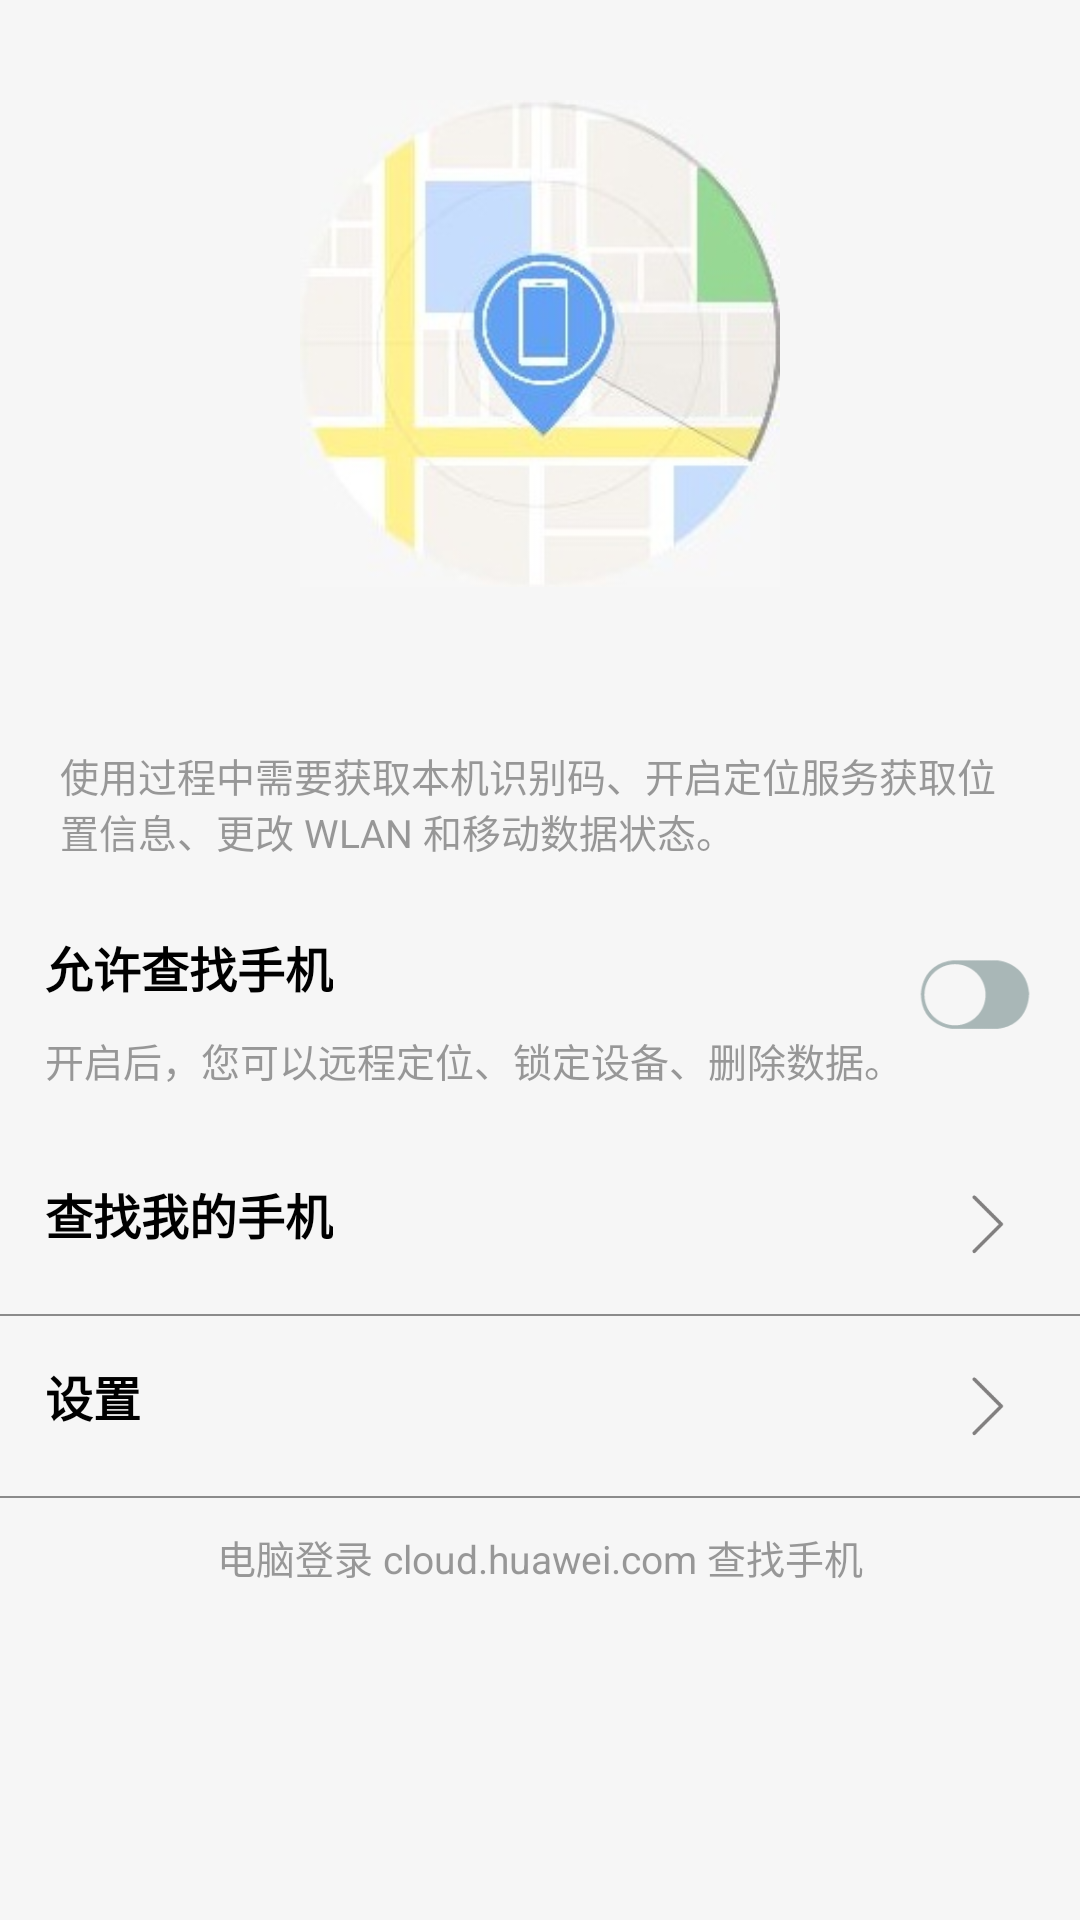

Locate icon controls on the screen. Image size 1080 x 1920, boxes as (x1, y1, x2, y2).
arrow: (972, 1195, 1003, 1253), (972, 1377, 1003, 1435)
